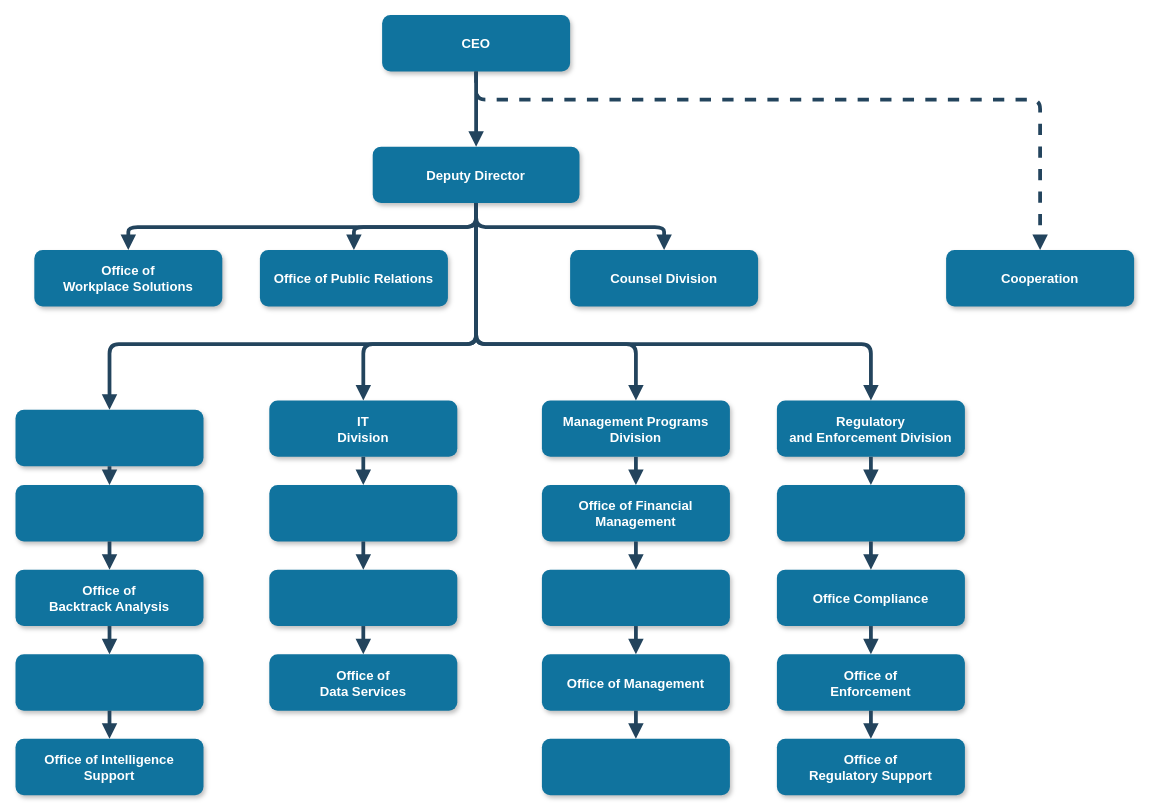
The diagram is 1150 pixels wide and 810 high, and some of its shapes have lost their labels. The shapes that lost their labels are listed below. From the top down, each one's centre as x and y in pixels, then its label:
At pixel 110 439: "Analysis Division".
At pixel 110 514: "Office of Global Support".
At pixel 363 514: "Database Administration".
At pixel 871 514: "Office of Regulatory Policy".
At pixel 363 598: "Office of Technology Research".
At pixel 636 598: "Office of Human Resources".
At pixel 110 683: "Department of Heuristic Support".
At pixel 636 768: "Office of Training Services".
